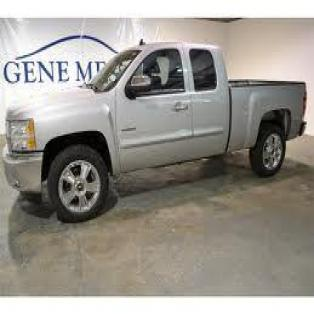Auto: (1, 37, 308, 222)
